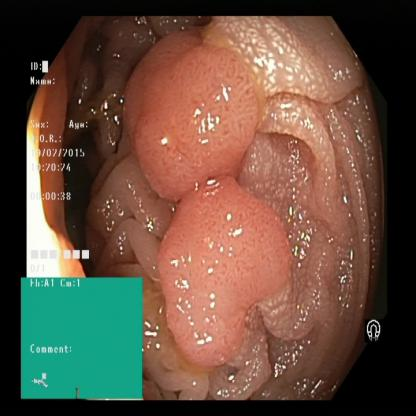Labels: (27, 56, 102, 274), (21, 276, 142, 402), (353, 310, 395, 352)
Polyps: (144, 191, 295, 348), (132, 63, 257, 182)
